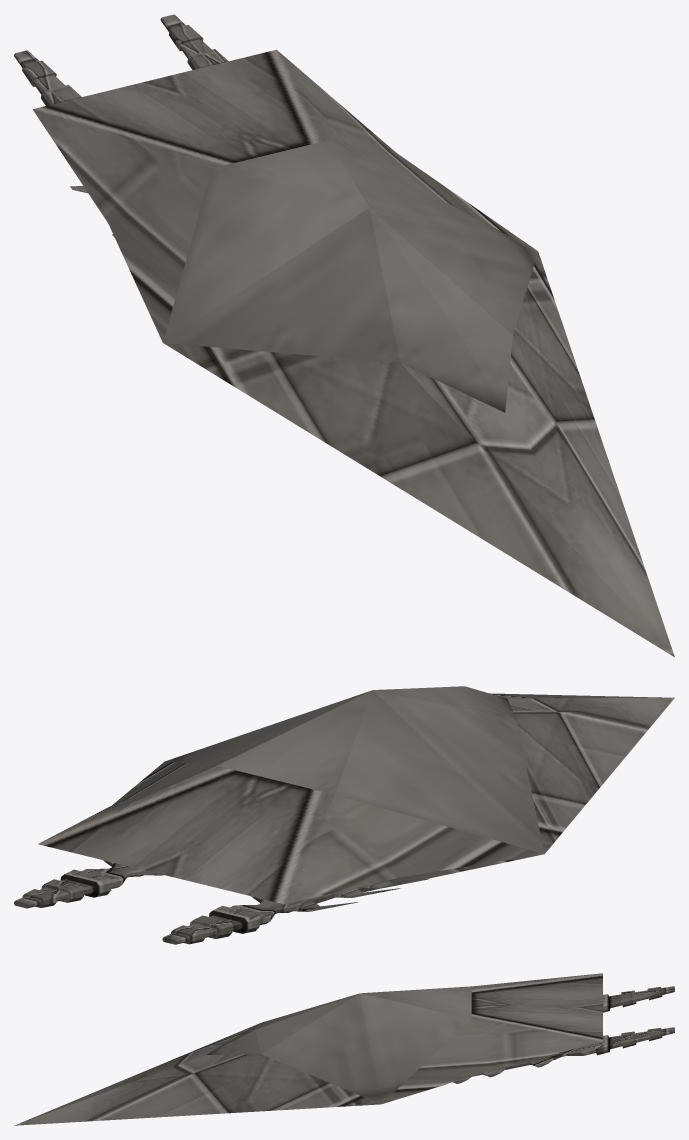
Rendered from weak_open (1).fbx.
The picture shows the model from 3 angles, top to bottom: view 1: azimuth 30°, elevation 25°; view 2: azimuth 150°, elevation 25°; view 3: azimuth 270°, elevation 25°; orthographic projection. The views are drawn at different scales.
Visible parts, largest first — view 1: F_Wing, polySurface3233; view 2: F_Wing, polySurface3233; view 3: F_Wing, polySurface3233.
Boxes of the visible parts, x1,y1,x2,y2 form: F_Wing: (14, 14, 674, 657); polySurface3233: (163, 140, 537, 412); F_Wing: (14, 693, 674, 944); polySurface3233: (165, 686, 544, 853); F_Wing: (15, 973, 674, 1125); polySurface3233: (207, 986, 471, 1104).
Size of the model in its own units: 3.92 by 2.29 by 10.43.
Materials: 2 (1 with a texture image).
